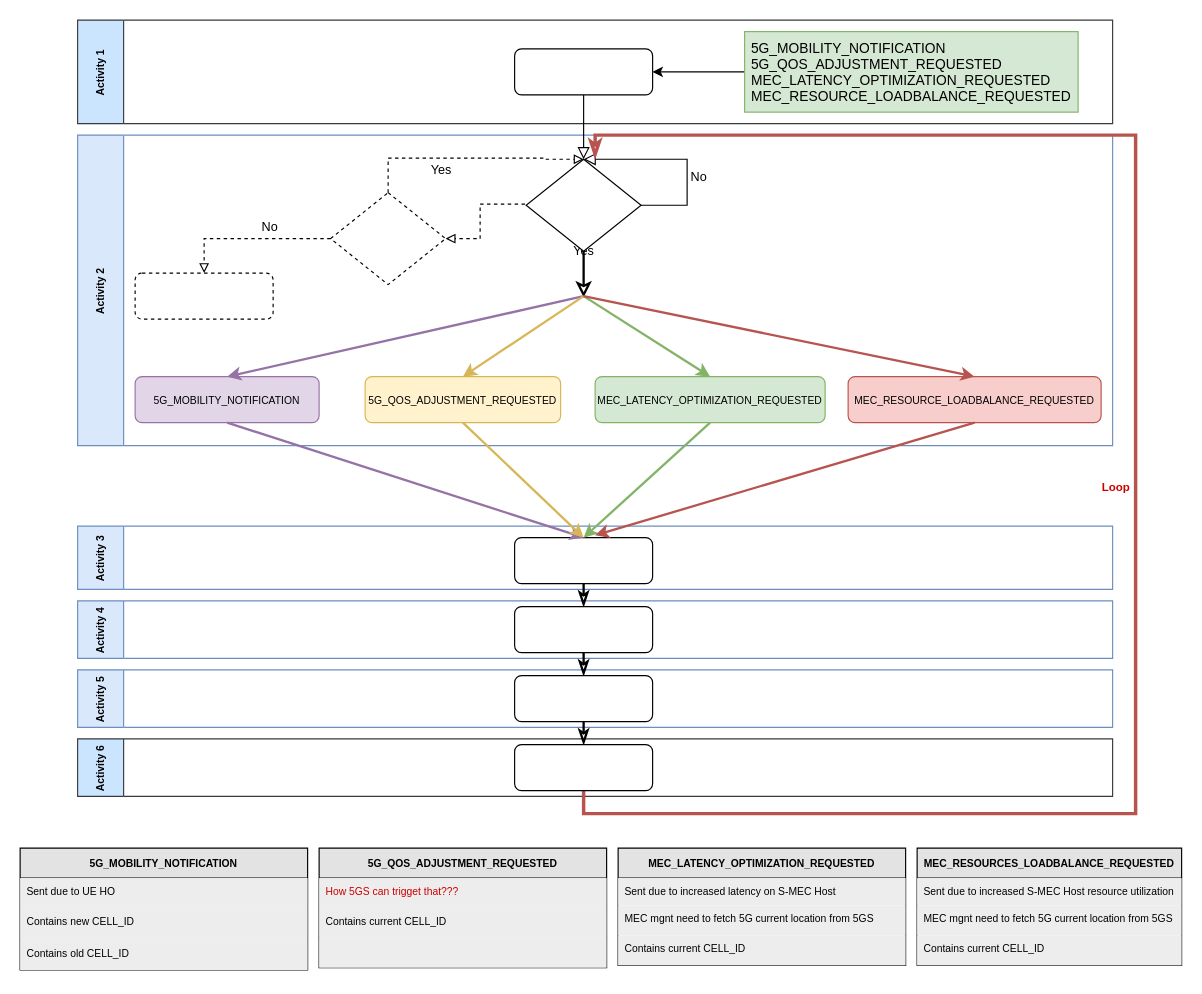
Image size: 1202x994. Some labels were removed from this diagram. Each missing label, with the centre of its shape:
Application allive?: point (387, 238)
Call Placement Controller: point (583, 629)
Call Temporal Workflow Controller: point (583, 767)
Generate Relocate Workflow Intent: point (583, 698)
Generate Smart Placement Intent: point (583, 560)
Got Notification?: point (583, 204)
Register for notifications: point (583, 71)
TERMINATE_WORKFLOW: point (203, 295)
